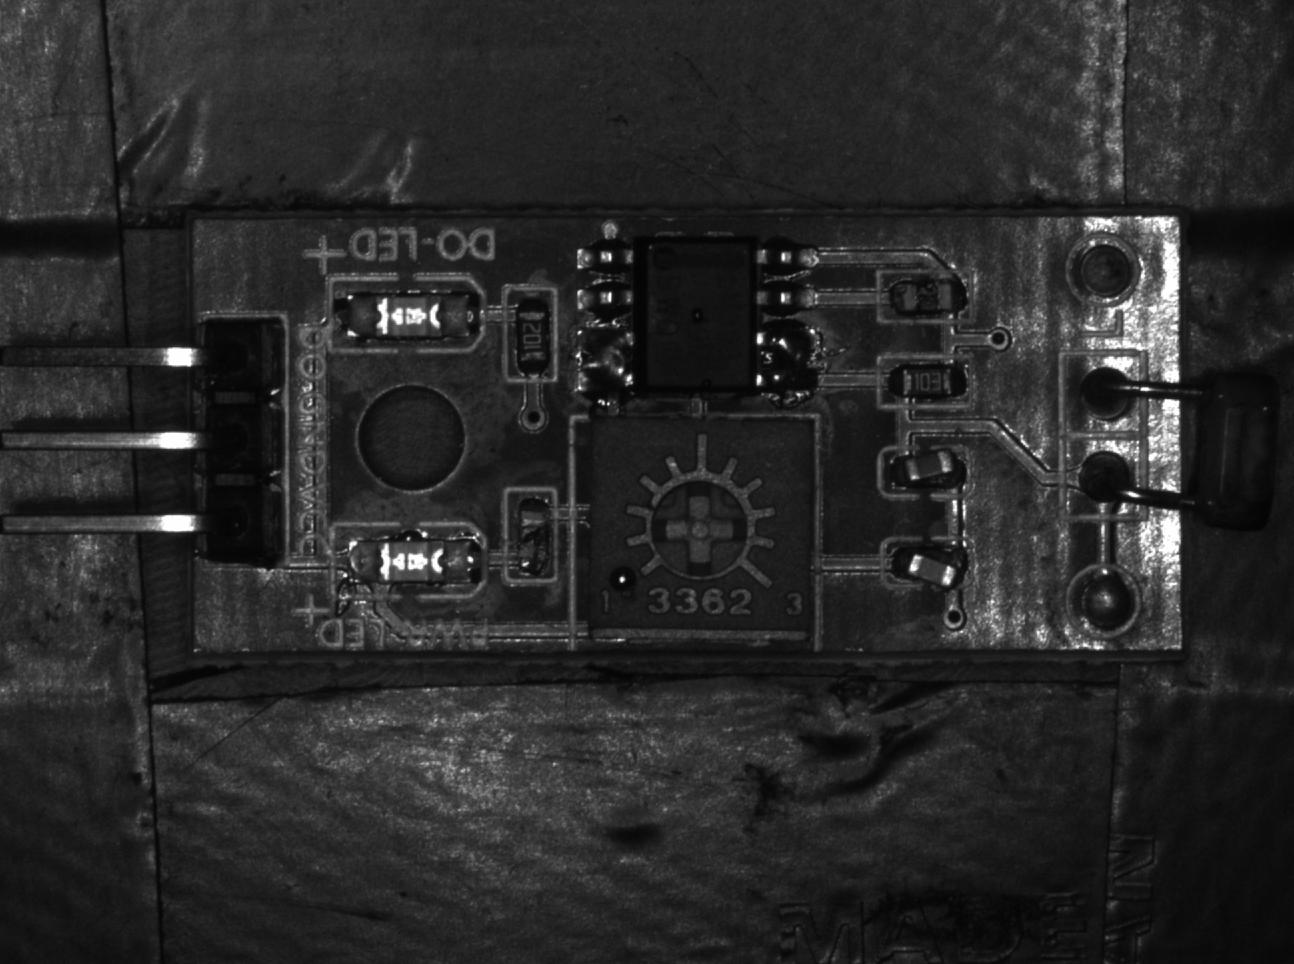bridge: (754, 322, 819, 393), (577, 326, 634, 398)
lifted: (882, 535, 970, 593), (876, 445, 973, 496)
miss: (880, 270, 975, 323), (506, 491, 556, 585)
ok: (504, 287, 557, 382), (880, 355, 970, 407)
